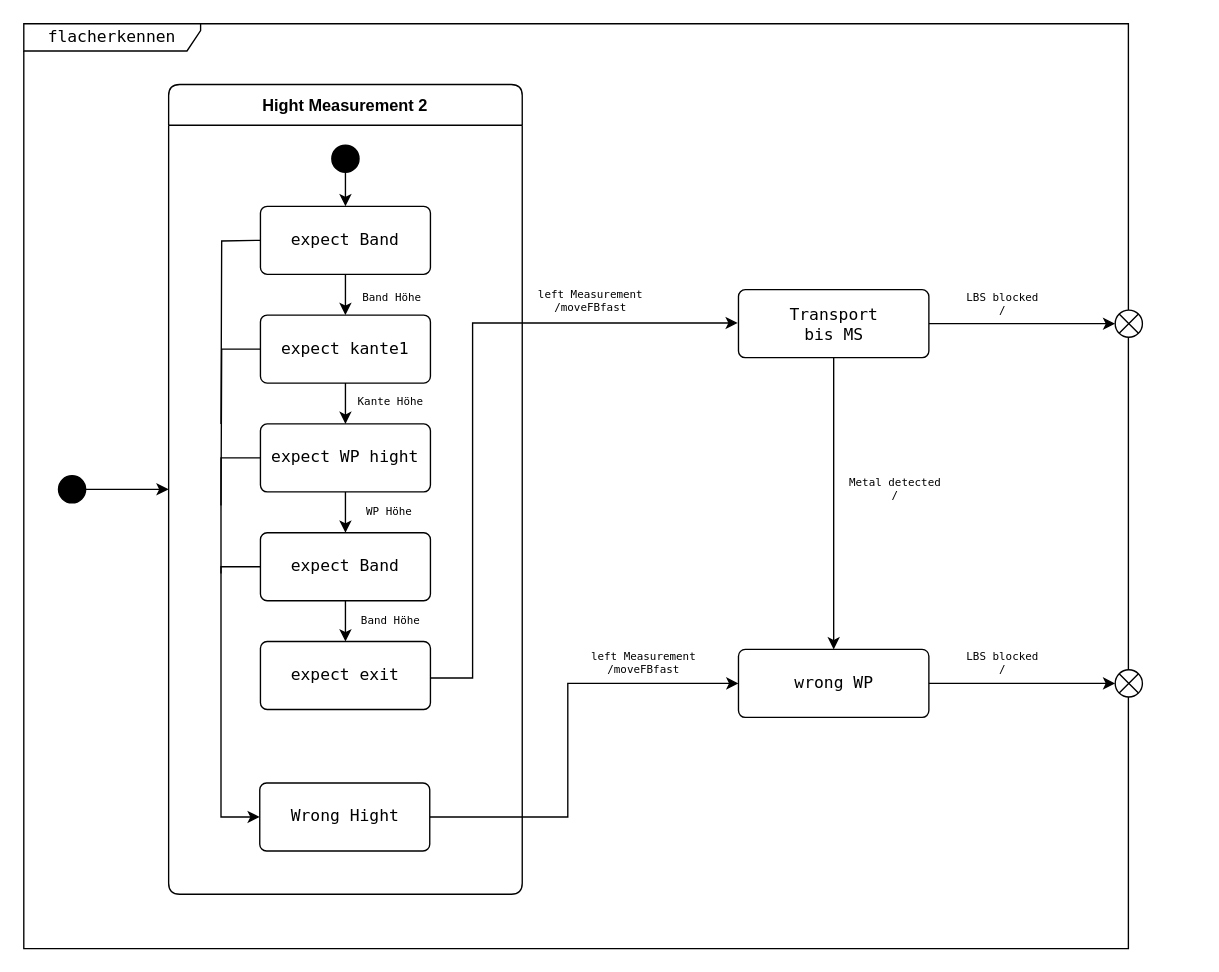
Image size: 1219x972. Some labels were removed from this diagram. Each missing label, with the box of its shape:
correct: (1114, 309, 1142, 337)
wrong: (1114, 668, 1142, 697)
